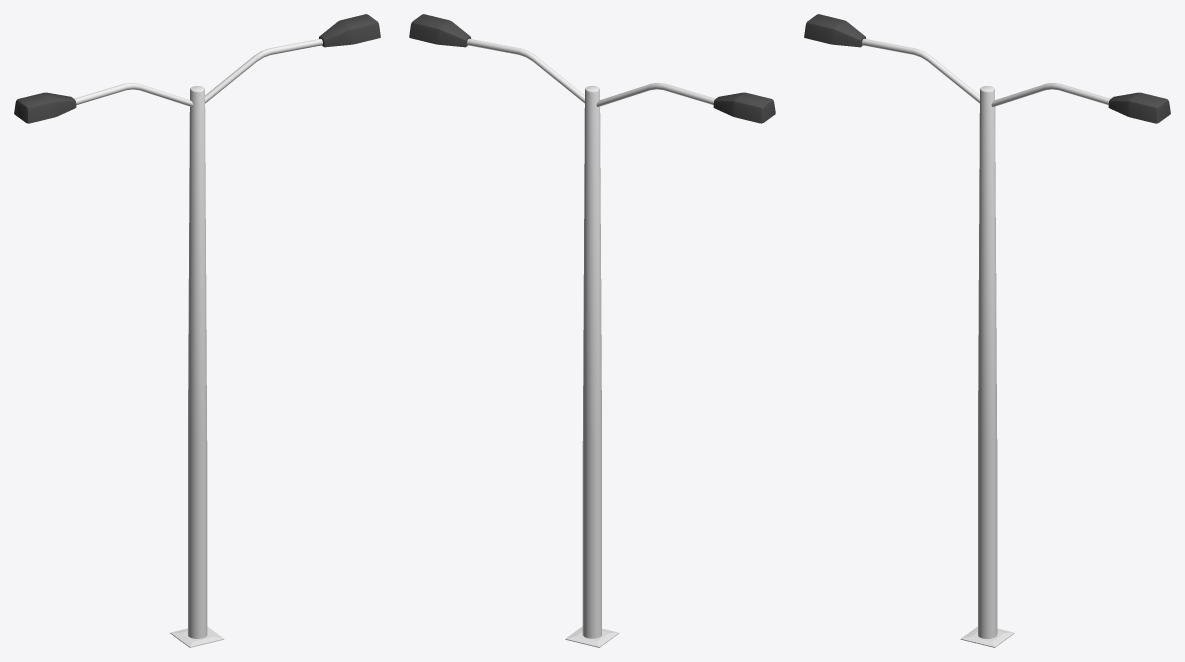
Rendered from sign-modular.glb.
3 views of the same model, side by side, from view 1: azimuth 30°, elevation 25°; view 2: azimuth 150°, elevation 25°; view 3: azimuth 330°, elevation 25° (orthographic).
Visible parts, largest first — view 1: Cylinder_14; view 2: Cylinder_14; view 3: Cylinder_14.
Part boxes in pixels (x1=…): Cylinder_14: x1=14, y1=14, x2=380, y2=647; Cylinder_14: x1=409, y1=14, x2=775, y2=647; Cylinder_14: x1=804, y1=14, x2=1170, y2=647.
Bounding box in the file's own units: 1.66 × 2.59 × 0.1604.
Materials: 1 (1 with a texture image).
